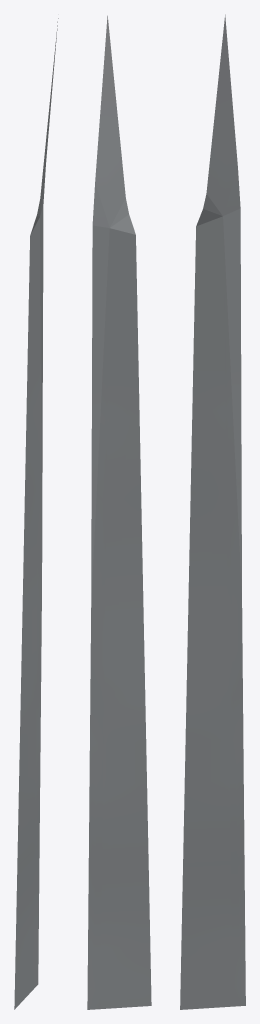
3 renders of one model, left to right at view 1: azimuth 30°, elevation 25°; view 2: azimuth 150°, elevation 25°; view 3: azimuth 330°, elevation 25°, orthographic. The views are drawn at different scales.
Size of the model in its own units: 0.00476 by 0.1016 by 0.00379.
Materials: 1 (1 with a texture image).
